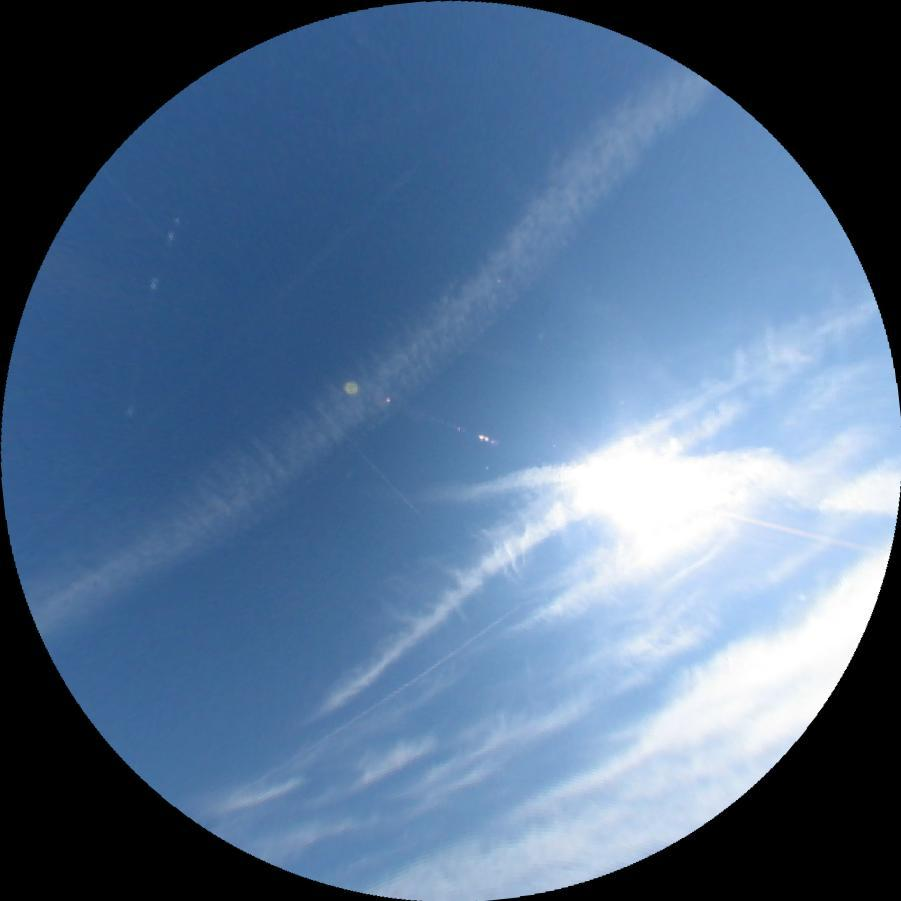contrail old: (7, 97, 487, 556), (305, 396, 423, 517)
contrail veryold: (17, 41, 738, 687), (272, 306, 820, 732), (398, 440, 897, 514)
contrail young: (215, 601, 525, 809)
parasite: (117, 228, 174, 415), (709, 506, 890, 554)
sun: (592, 460, 707, 527)
